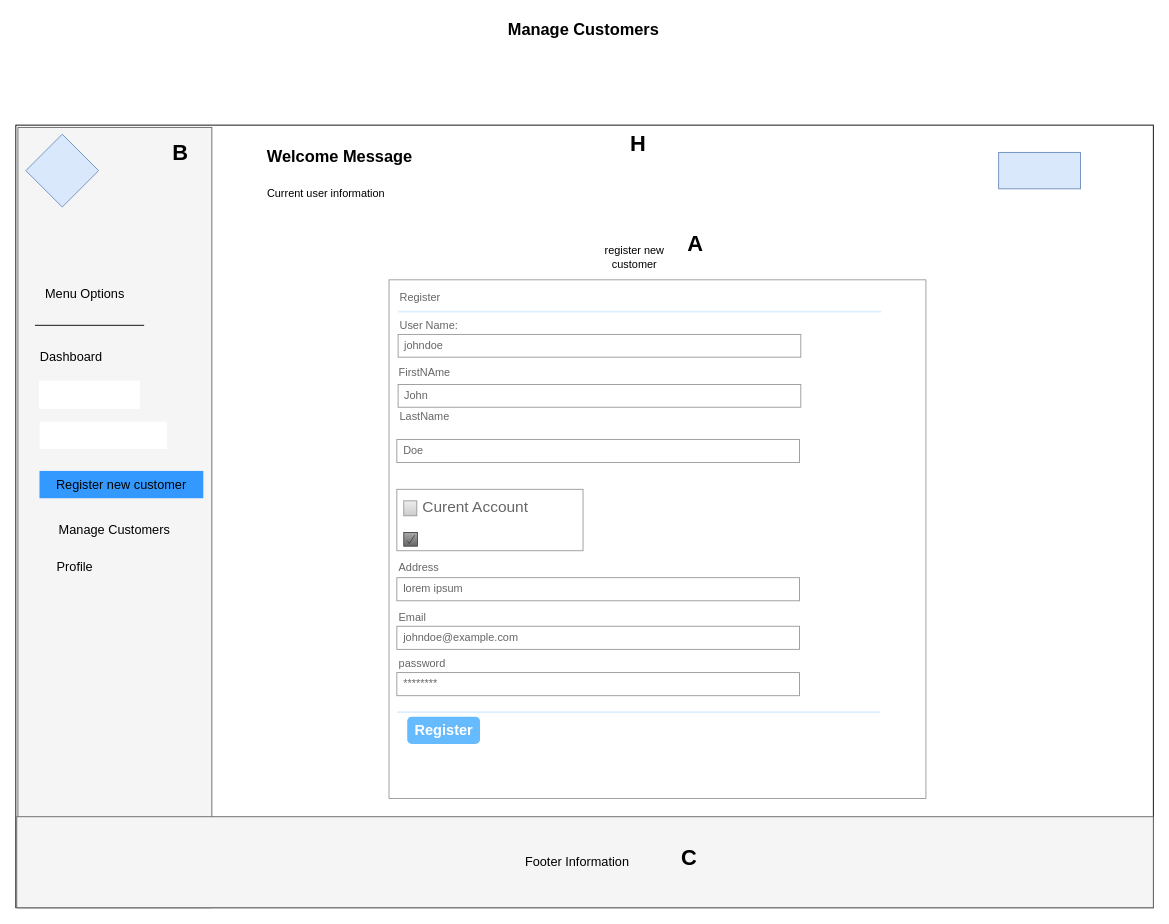
The diagram is 1169 pixels wide and 924 high, and some of its shapes have lost their labels. The box of each missing label's shape, as (x1, y1, x2, y2) in pixels:
LOGO: (25, 133, 99, 207)
Logout: (998, 152, 1081, 189)
Manage Accounts: (39, 421, 166, 449)
Savings Account: (403, 532, 417, 546)
Transactions: (39, 380, 140, 408)
